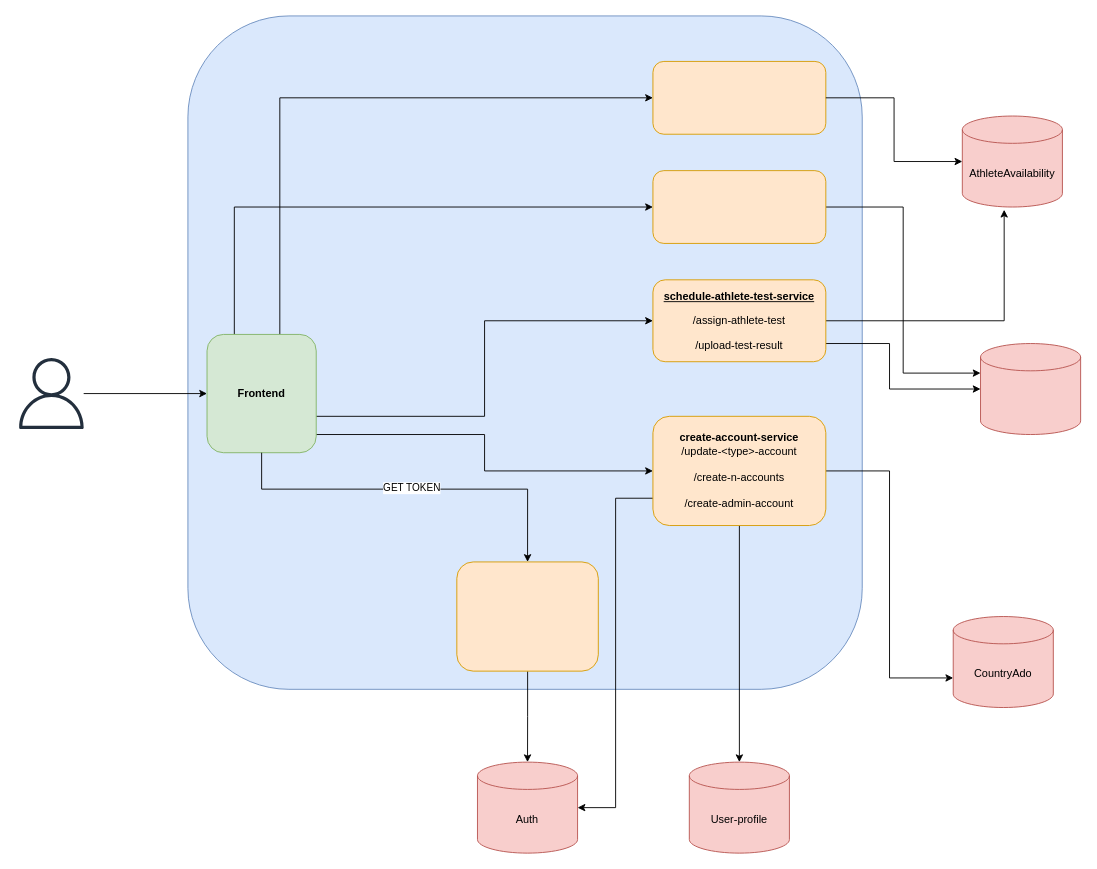
This 1097x869 diagram has some shape labels left out. Here are the shapes that lost their labels. From the top down, the centre of each, then its label:
At point 739,97: "athlete-availabilty /update-availability /view-set-available".
At point 739,206: "view-test-results /view-athlete-avail".
At point 1030,389: "AthleteTest".
At point 527,616: "Auth /unprotected /protected /login".
